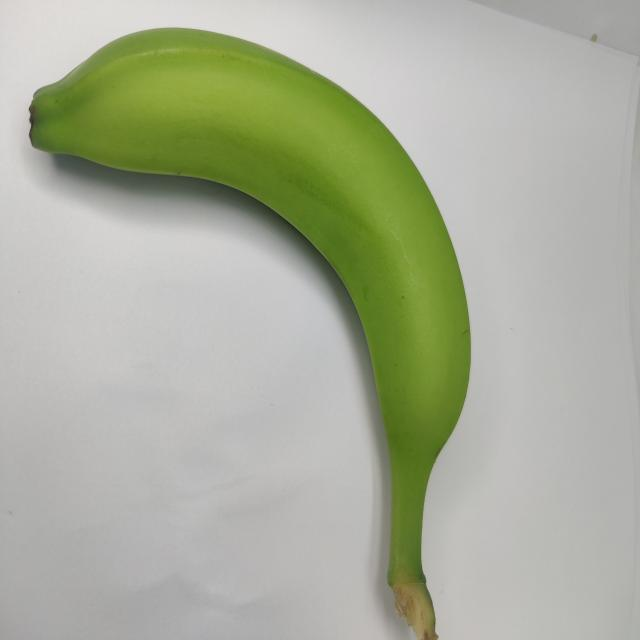raw: (19, 23, 490, 640)
